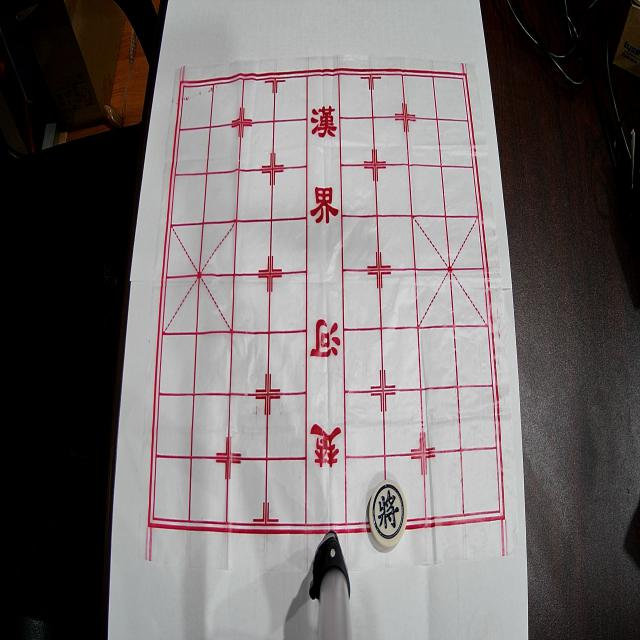black-general: (369, 480, 407, 548)
